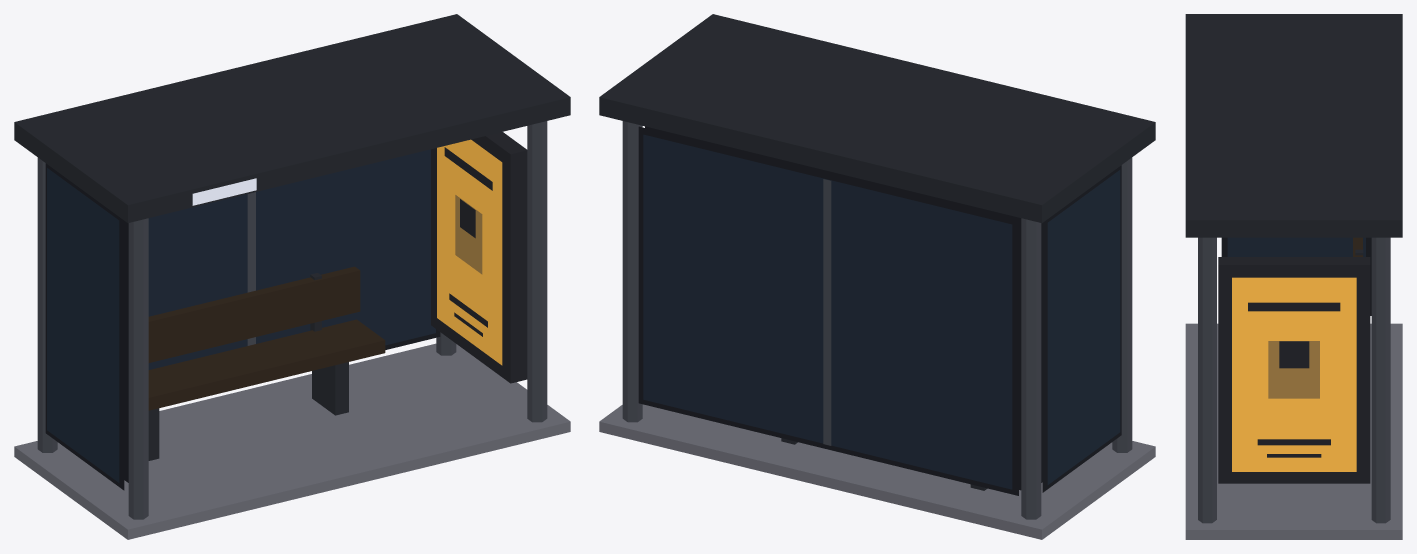
File: mc-bus_shelter.glb
The picture shows the model from 3 angles, left to right: view 1: azimuth 30°, elevation 25°; view 2: azimuth 150°, elevation 25°; view 3: azimuth 270°, elevation 25°; orthographic projection. The views are drawn at different scales.
Visible parts, largest first — view 1: prop_bus_shelter; view 2: prop_bus_shelter; view 3: prop_bus_shelter.
Boxes of the visible parts, x1=… form: prop_bus_shelter: x1=14, y1=14, x2=570, y2=539; prop_bus_shelter: x1=599, y1=14, x2=1155, y2=539; prop_bus_shelter: x1=1185, y1=14, x2=1402, y2=539.
Bounding box in the file's own units: 3.6 × 2.6 × 1.61.
Materials: 1 (1 with a texture image).
